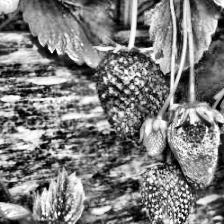Gray Mold: (166, 102, 224, 190)
